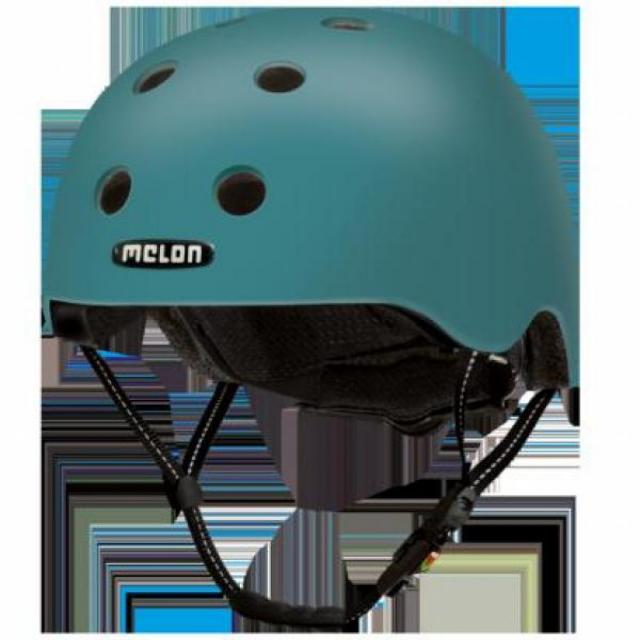Helmet: (56, 15, 582, 640)
